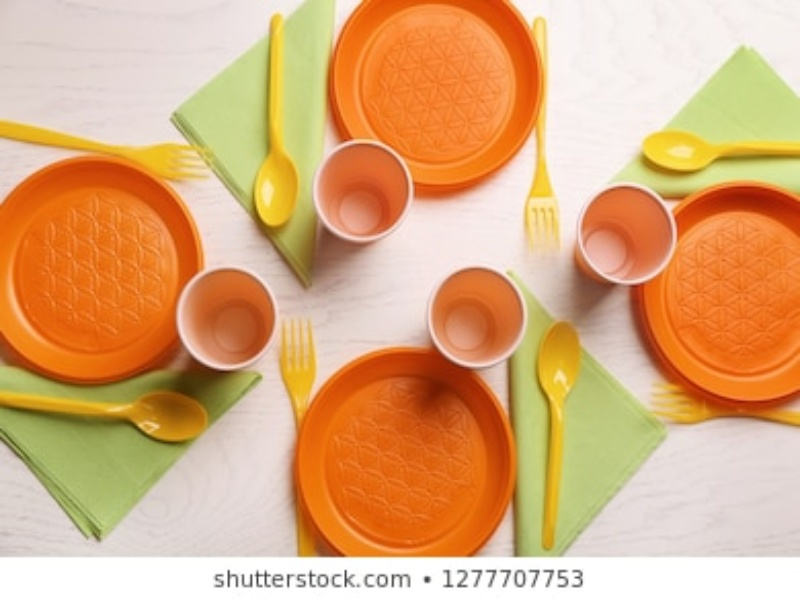plastic-cup: (423, 264, 530, 371), (309, 137, 414, 245), (572, 182, 678, 288), (175, 266, 280, 373)
plastic-plate: (294, 346, 517, 558), (1, 156, 206, 385), (327, 1, 543, 187), (637, 179, 800, 406)
plastic-silverware: (1, 114, 210, 183), (538, 321, 588, 552), (1, 389, 209, 443), (252, 12, 301, 237), (274, 322, 320, 554), (520, 15, 564, 250), (644, 375, 800, 428), (634, 130, 800, 172)
